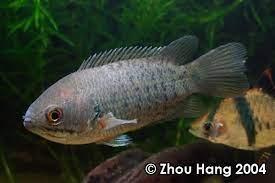Climbing Perch: (23, 35, 250, 147)
